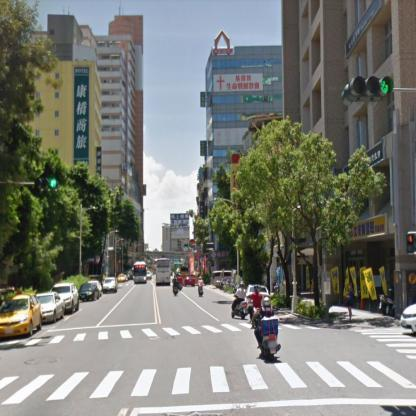Green Light: (340, 75, 393, 101), (32, 177, 58, 188)
